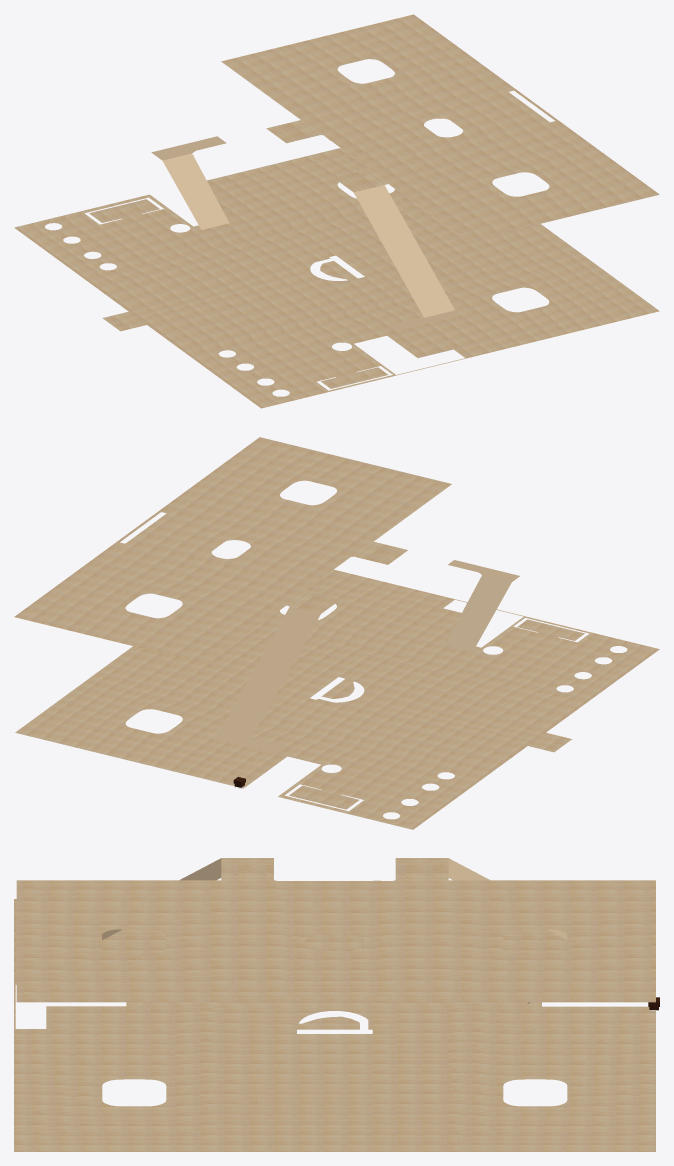
File: navmesh.glb
The picture shows the model from 3 angles, top to bottom: view 1: azimuth 30°, elevation 25°; view 2: azimuth 150°, elevation 25°; view 3: azimuth 270°, elevation 25°; orthographic projection. The views are drawn at different scales.
Visible parts, largest first — view 1: Plane.001; view 2: Plane.001; view 3: Plane.001.
Boxes of the visible parts, x1,y1,x2,y2 form: Plane.001: (14,14,659,408); Plane.001: (14,437,659,829); Plane.001: (14,858,655,1151).
Bounding box in the file's own units: 16.92 × 4.39 × 17.1.
3 materials, 2 textured.
